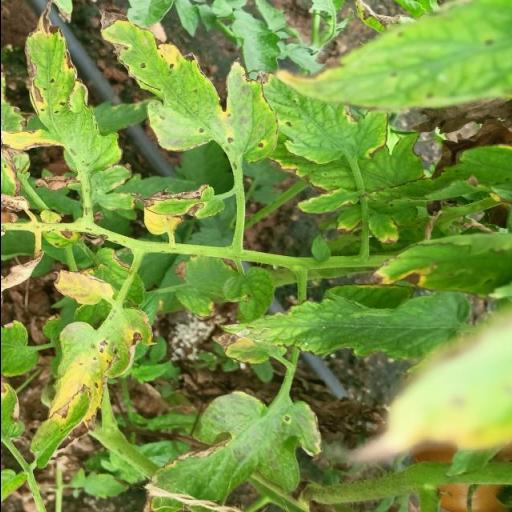disease_tomato: (96, 4, 280, 166), (24, 0, 134, 210), (29, 304, 160, 474), (258, 70, 388, 166)
